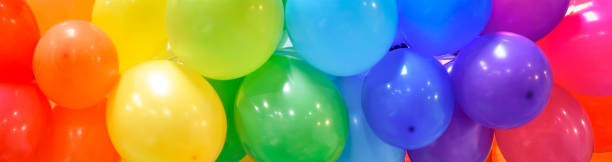Balloon: (234, 54, 349, 162), (107, 61, 227, 162), (451, 32, 553, 128), (364, 48, 455, 150), (166, 1, 284, 79), (285, 1, 398, 75), (33, 20, 118, 107), (543, 1, 612, 97)
